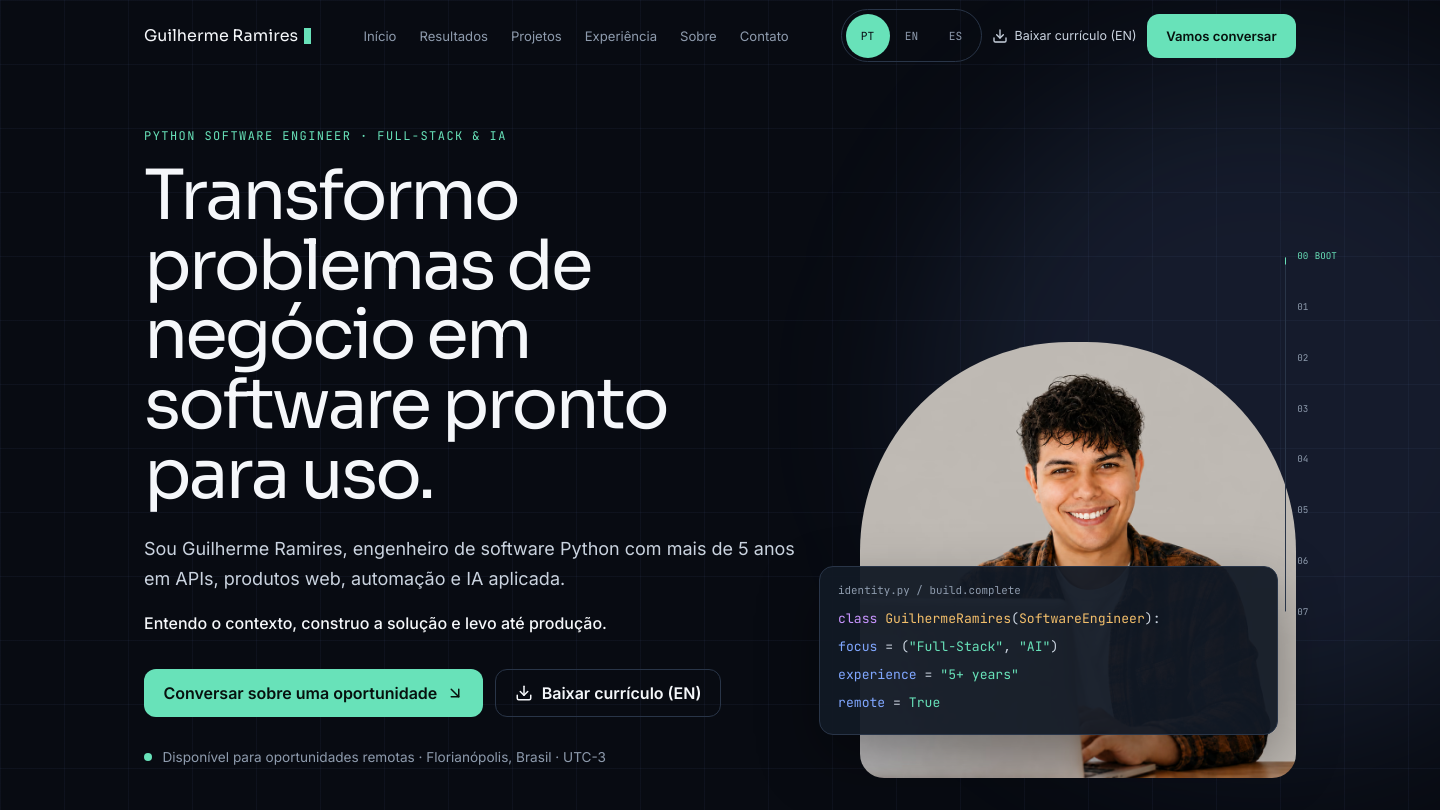
Test: application shell › changes language without losing the active section hash
Click the button "EN". click: (912,36)
box: [890, 14, 934, 58]
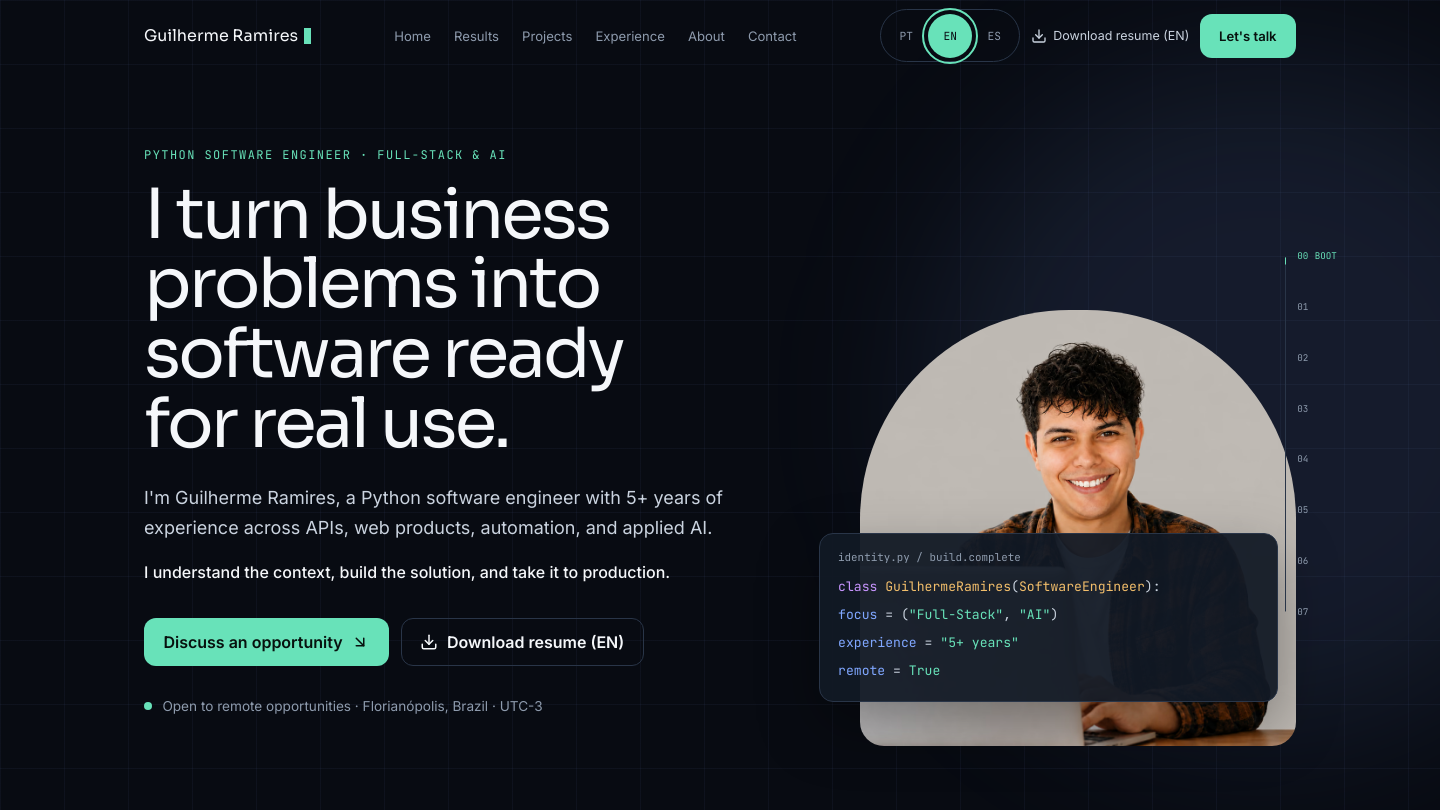
Expected: the heading "I turn business problems into software ready for real use." is shown, [144, 171, 623, 467]
